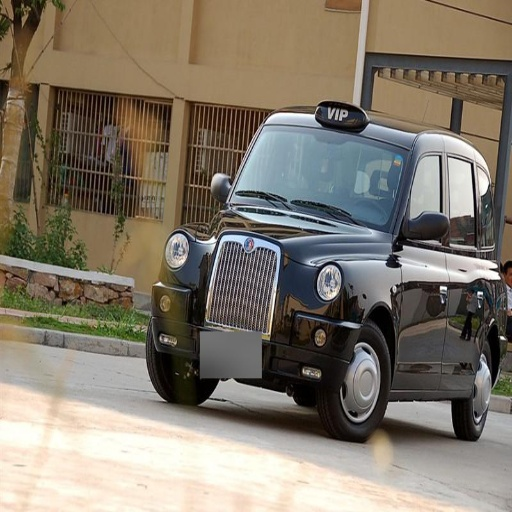front_bumper: (202, 305, 349, 379), (156, 294, 193, 351)
front_glass: (235, 128, 408, 229)
